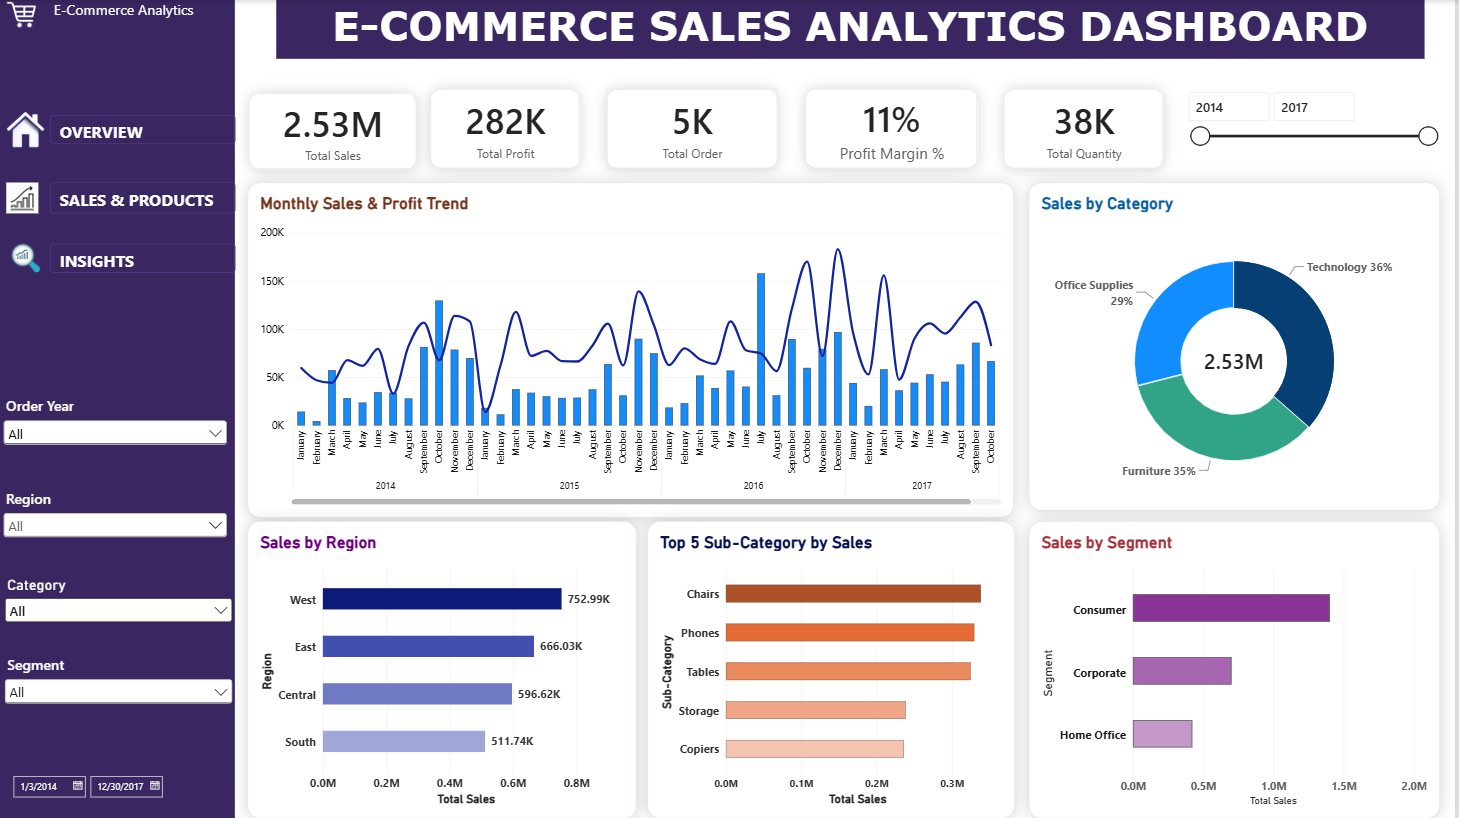

This screenshot's page, from the dashboard's own definition file:
{"tool":"powerbi","page":{"name":"Overview","canvas":[1920,1080],"ordinal":0},"visuals":[{"type":"cardVisual","fields":{"Data":["Sheet1.Total Sales"]},"box":[327.7,121.3,221.3,102.1],"z":0},{"type":"cardVisual","fields":{"Data":["Sheet1.Total Profit"]},"box":[567.3,117.3,198.1,105.8],"z":1000},{"type":"cardVisual","fields":{"Data":["Sheet1.Total Order"]},"box":[800,117.3,226.9,105.8],"z":2000},{"type":"cardVisual","fields":{"Data":["Sheet1.Total Quantity"]},"box":[1325,117.3,211.5,105.8],"z":3000},{"type":"cardVisual","fields":{"Data":["Sheet1.Profit Margin %"]},"box":[1061.5,117.3,228.8,105.8],"z":4000},{"type":"lineClusteredColumnComboChart","title":"Monthly Sales & Profit Trend","fields":{"Category":["Sheet1.Order Date.Variation.Date Hierarchy.Year","Sheet1.Order Date.Variation.Date Hierarchy.Month"],"Y":["Sheet1.Total Sales"],"Y2":["Sheet1.Total Profit"]},"box":[326.9,240.4,1011.5,442.3],"z":5000},{"type":"donutChart","title":"Sales by Category","fields":{"Category":["Sheet1.Category"],"Y":["Sheet1.Total Sales"]},"box":[1357.7,240.4,542.3,432.7],"z":6000},{"type":"clusteredBarChart","title":"Sales by Region ","fields":{"Category":["Sheet1.Region"],"Y":["Sheet1.Total Sales"]},"box":[326.9,688.5,513.5,392.3],"z":7000},{"type":"clusteredBarChart","title":"Sales by Segment","fields":{"Category":["Sheet1.Segment"],"Y":["Sheet1.Total Sales"]},"box":[1357.7,688.5,542.3,392.3],"z":8000},{"type":"clusteredBarChart","title":"Top 5 Sub-Category by Sales","fields":{"Category":["Sheet1.Sub-Category"],"Y":["Sheet1.Total Sales"]},"box":[853.8,688.5,484.6,392.3],"z":9000},{"type":"shape","box":[0,0,309.6,1080.8],"z":10000},{"type":"actionButton","box":[66,151.1,244.7,38.3],"z":11000},{"type":"actionButton","box":[66,240.4,244.7,40.4],"z":12000},{"type":"actionButton","box":[66,321.3,244.7,38.3],"z":13000},{"type":"slicer","fields":{"Values":["Sheet1.Order Year"]},"box":[0,523.1,303.8,80.8],"z":14000},{"type":"slicer","fields":{"Values":["Sheet1.Region"]},"box":[0,644.2,303.8,78.8],"z":15000},{"type":"slicer","fields":{"Values":["Sheet1.Category"]},"box":[1.9,759.6,309.6,73.1],"z":16000},{"type":"slicer","fields":{"Values":["Sheet1.Segment"]},"box":[1.9,863.5,309.6,86.5],"z":17000},{"type":"image","box":[2,138,64,66],"z":18000},{"type":"image","box":[8.5,240.4,42.6,40.4],"z":19000},{"type":"image","box":[0,321.2,69.2,38.5],"z":20000},{"type":"image","box":[4.3,0,46.8,38.3],"z":21000},{"type":"slicer","fields":{"Values":["Sheet1.Order Year"]},"box":[1559.6,117,340.4,104.3],"z":22000},{"type":"textbox","box":[365,0,1515,77.5],"z":23000},{"type":"textbox","box":[70.2,0,212.8,53.2],"z":24000},{"type":"slicer","fields":{"Values":["Sheet1.Order Date"]},"box":[10,1020,238,60],"z":25000}]}

Visuals, with their boxes on the page's 1920x1080 design canvas (x1, y1, x2, y2). These are canvas units, not pixel positions in the 1459x818 screenshot, which may show the page scaled, cropped or inside an application window:
cardVisual - Sheet1.Total Sales: [328, 121, 549, 223]
cardVisual - Sheet1.Total Profit: [567, 117, 765, 223]
cardVisual - Sheet1.Total Order: [800, 117, 1027, 223]
cardVisual - Sheet1.Total Quantity: [1325, 117, 1536, 223]
cardVisual - Sheet1.Profit Margin %: [1062, 117, 1290, 223]
"Monthly Sales & Profit Trend" lineClusteredColumnComboChart: [327, 240, 1338, 683]
"Sales by Category" donutChart: [1358, 240, 1900, 673]
"Sales by Region " clusteredBarChart: [327, 688, 840, 1081]
"Sales by Segment" clusteredBarChart: [1358, 688, 1900, 1081]
"Top 5 Sub-Category by Sales" clusteredBarChart: [854, 688, 1338, 1081]
shape: [0, 0, 310, 1081]
actionButton: [66, 151, 311, 189]
actionButton: [66, 240, 311, 281]
actionButton: [66, 321, 311, 360]
slicer - Sheet1.Order Year: [0, 523, 304, 604]
slicer - Sheet1.Region: [0, 644, 304, 723]
slicer - Sheet1.Category: [2, 760, 312, 833]
slicer - Sheet1.Segment: [2, 864, 312, 950]
image: [2, 138, 66, 204]
image: [8, 240, 51, 281]
image: [0, 321, 69, 360]
image: [4, 0, 51, 38]
slicer - Sheet1.Order Year: [1560, 117, 1900, 221]
textbox: [365, 0, 1880, 78]
textbox: [70, 0, 283, 53]
slicer - Sheet1.Order Date: [10, 1020, 248, 1080]
